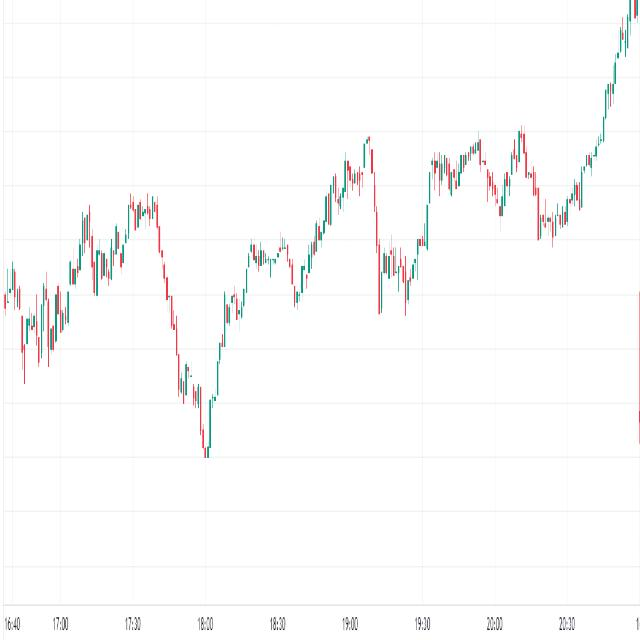Ascending-Triangle: (22, 191, 169, 471)
Channel-up: (276, 108, 382, 329)
